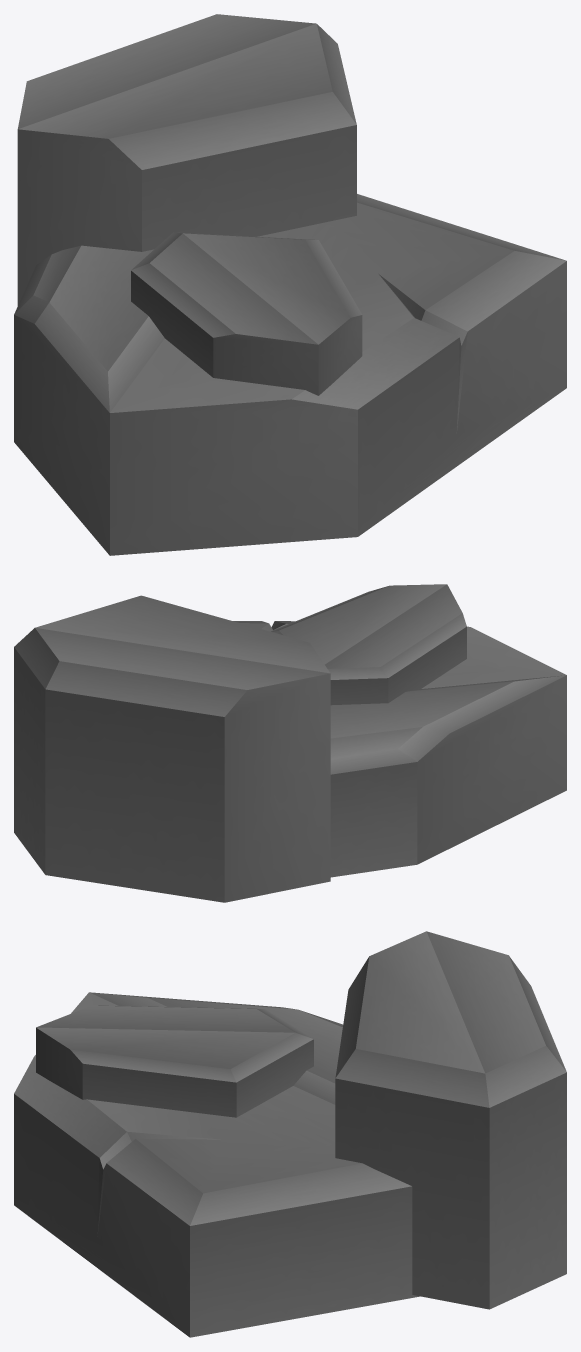
The model's file is pack02_rocks_03.fbx.
The picture shows the model from 3 angles, top to bottom: view 1: azimuth 30°, elevation 25°; view 2: azimuth 150°, elevation 25°; view 3: azimuth 270°, elevation 25°; orthographic projection. The views are drawn at different scales.
Parts seen in each view (by area): view 1: Rock Type1 03 mesh; view 2: Rock Type1 03 mesh; view 3: Rock Type1 03 mesh.
Part boxes in pixels (x1,y1,x2,y2): Rock Type1 03 mesh: (14,14,566,555); Rock Type1 03 mesh: (14,584,566,902); Rock Type1 03 mesh: (14,931,566,1337).
Size of the model in its own units: 147 by 71.42 by 156.
1 material, 1 textured.
